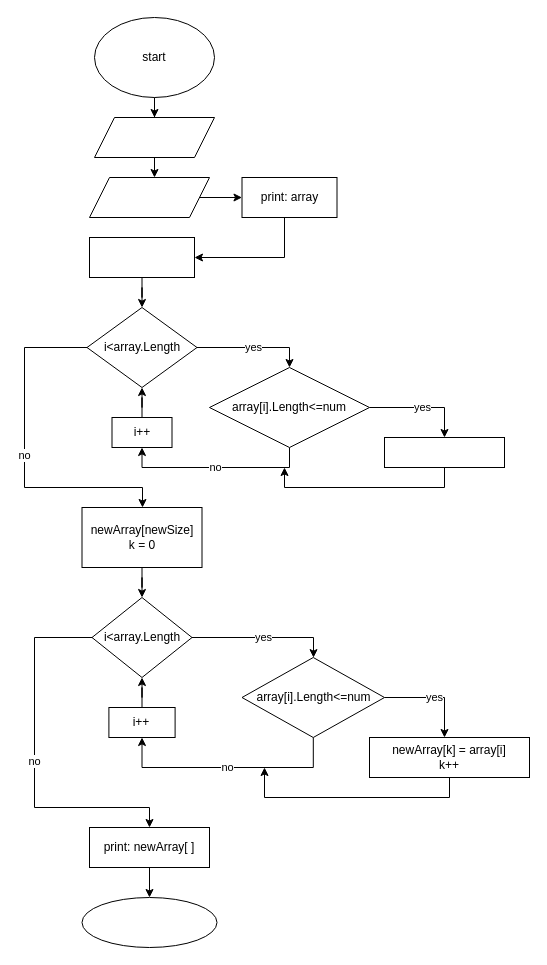
Some shapes in this 547 by 965 pixel diagram are drawn without their labels. The centre of each missing label's shape, as x and y in pixels:
"array[size]" belongs at point (149, 197).
"end" belongs at point (149, 922).
"newSize = 0 i = 0" belongs at point (141, 257).
"newSize+=1" belongs at point (444, 452).
"size num" belongs at point (154, 137).
